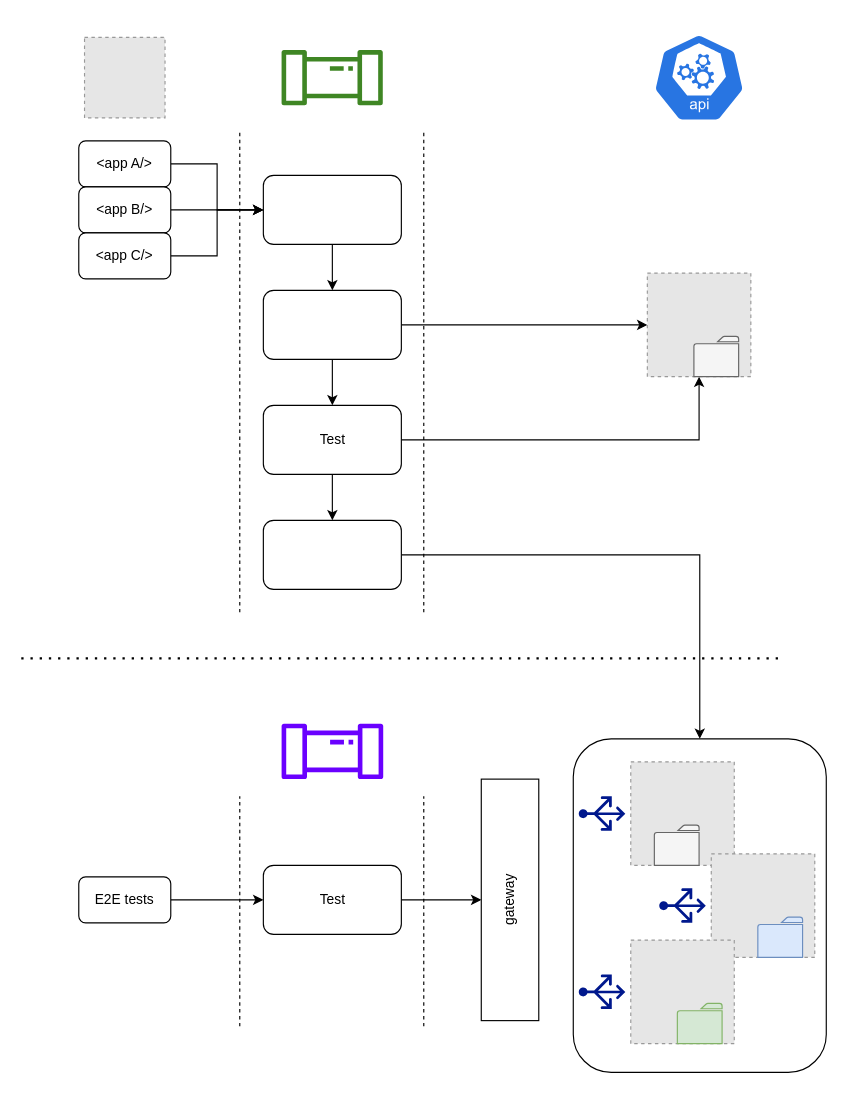
The diagram is 846 pixels wide and 1093 high, and some of its shapes have lost their labels. Grey dashed boxes stand in for pictures. Here are the shapes that lost their labels. From the top down, the centre of each, then its label:
point (331, 209): Build
point (331, 324): Deploy
point (331, 554): Release
